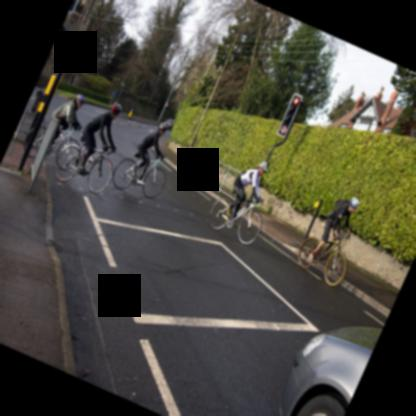backpack: (333, 198, 349, 208)
